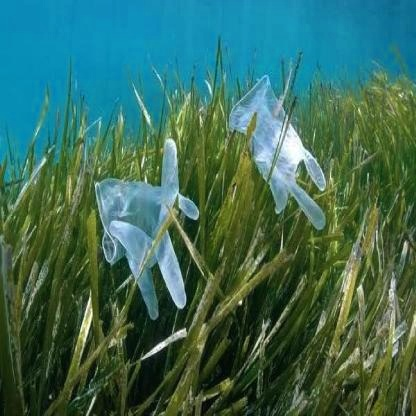glove: (88, 138, 203, 316), (221, 70, 334, 233)
